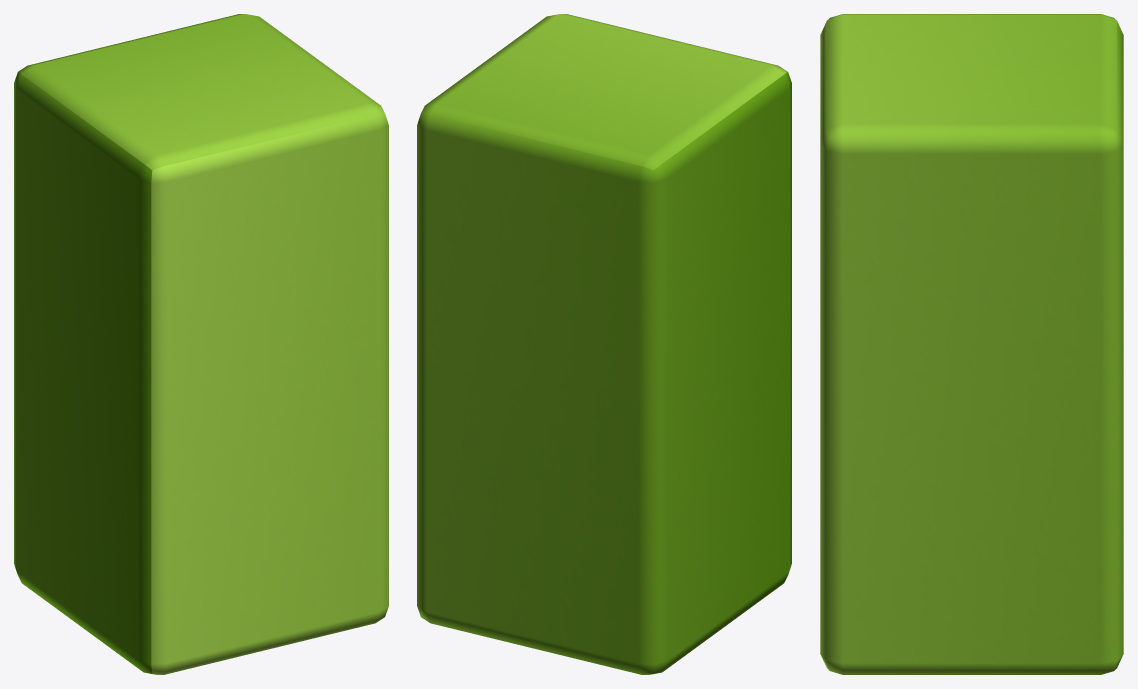
Rendered from BlockCuboidGreen.fbx.
3 renders of one model, left to right at view 1: azimuth 30°, elevation 25°; view 2: azimuth 150°, elevation 25°; view 3: azimuth 270°, elevation 25°, orthographic. The views are drawn at different scales.
Parts seen in each view (by area): view 1: Cube.002; view 2: Cube.002; view 3: Cube.002.
Part boxes in pixels (x1,y1,x2,y2): Cube.002: (14, 14, 388, 674); Cube.002: (417, 14, 791, 674); Cube.002: (820, 14, 1123, 674).
Size of the model in its own units: 200 by 400 by 200.
